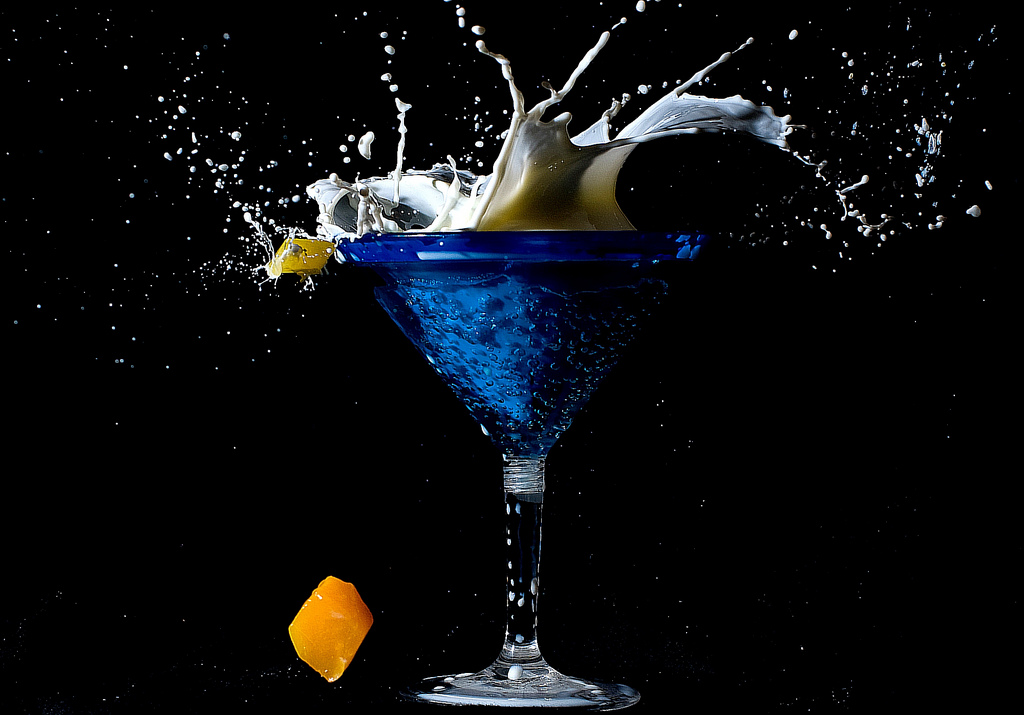glass of milk: (308, 31, 696, 708)
